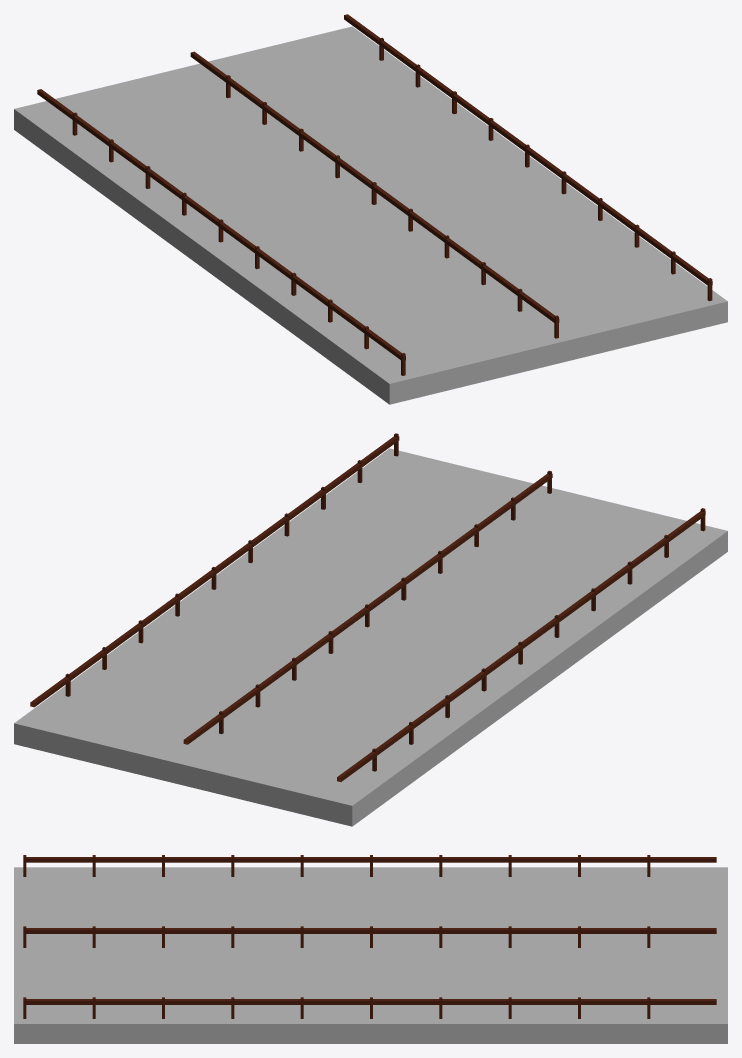
Rendered from PCa_floor_half_1.glb.
3 renders of one model, top to bottom at view 1: azimuth 30°, elevation 25°; view 2: azimuth 150°, elevation 25°; view 3: azimuth 270°, elevation 25°, orthographic. The views are drawn at different scales.
Visible parts, largest first — view 1: Plane.028; view 2: Plane.028; view 3: Plane.028.
Part boxes in pixels (x1=…): Plane.028: x1=14, y1=14, x2=727, y2=404; Plane.028: x1=14, y1=433, x2=727, y2=826; Plane.028: x1=14, y1=855, x2=727, y2=1043.
Size of the model in its own units: 3.76 by 0.4481 by 7.23.
